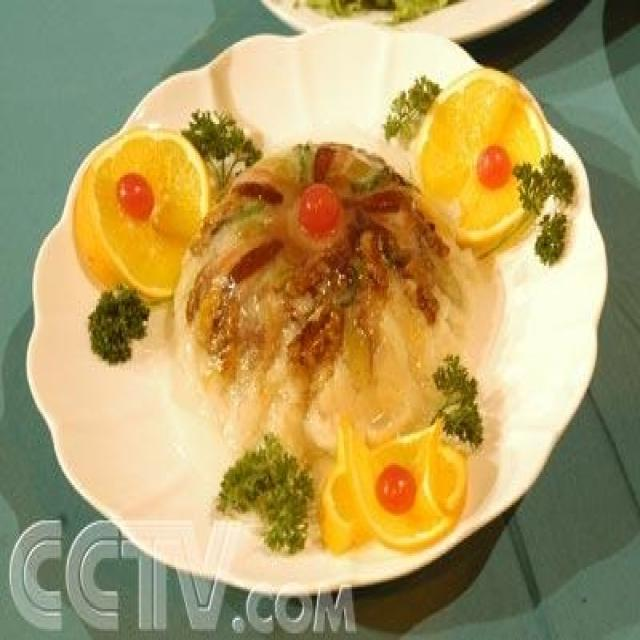米饭主食: (40, 20, 589, 596)
